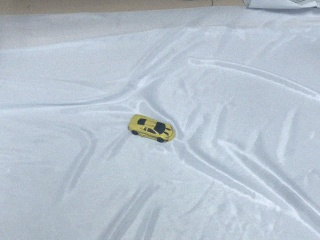toy_car: (128, 114, 175, 143)
